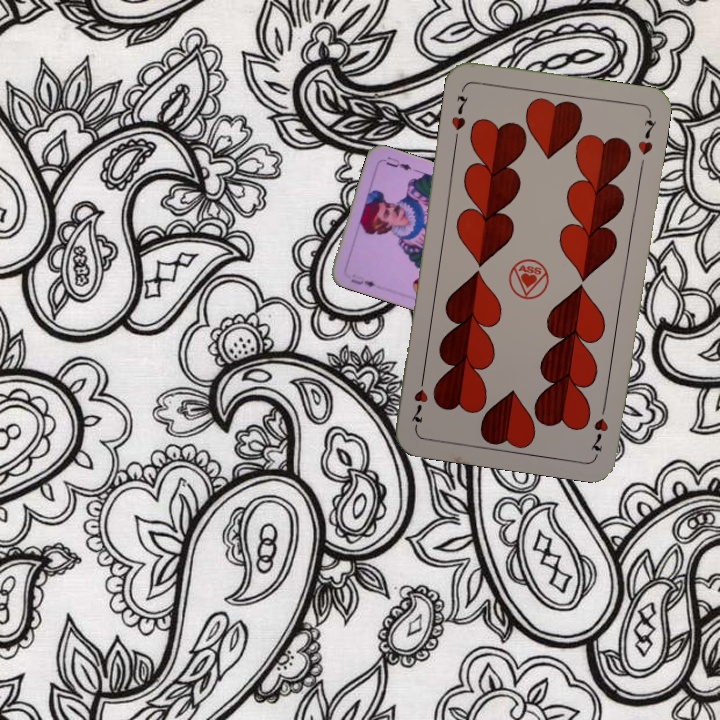EU: (346, 274, 378, 290)
H7: (587, 398, 611, 457), (447, 91, 471, 133)
